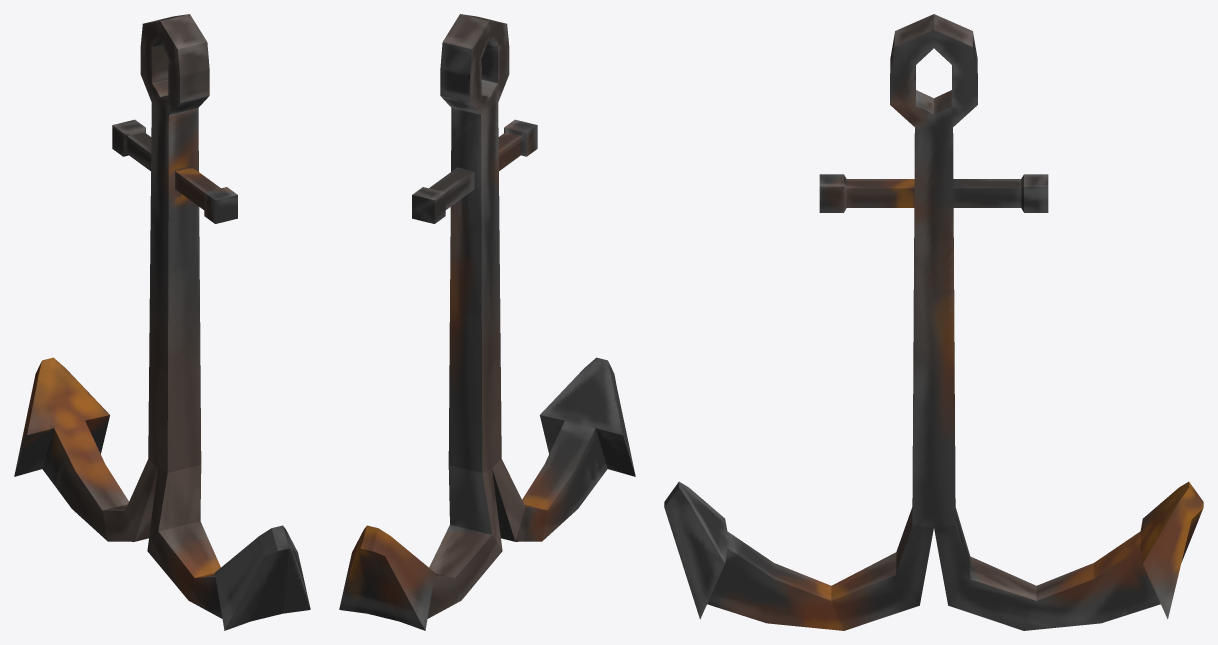
File: Anchor.fbx
The picture shows the model from 3 angles, left to right: view 1: azimuth 30°, elevation 25°; view 2: azimuth 150°, elevation 25°; view 3: azimuth 270°, elevation 25°; orthographic projection. The views are drawn at different scales.
Visible parts, largest first — view 1: Anchor; view 2: Anchor; view 3: Anchor.
Boxes of the visible parts, x1=… form: Anchor: x1=14, y1=14, x2=310, y2=630; Anchor: x1=339, y1=14, x2=635, y2=630; Anchor: x1=664, y1=14, x2=1203, y2=630.
Size of the model in its own units: 93.15 by 564 by 453.
